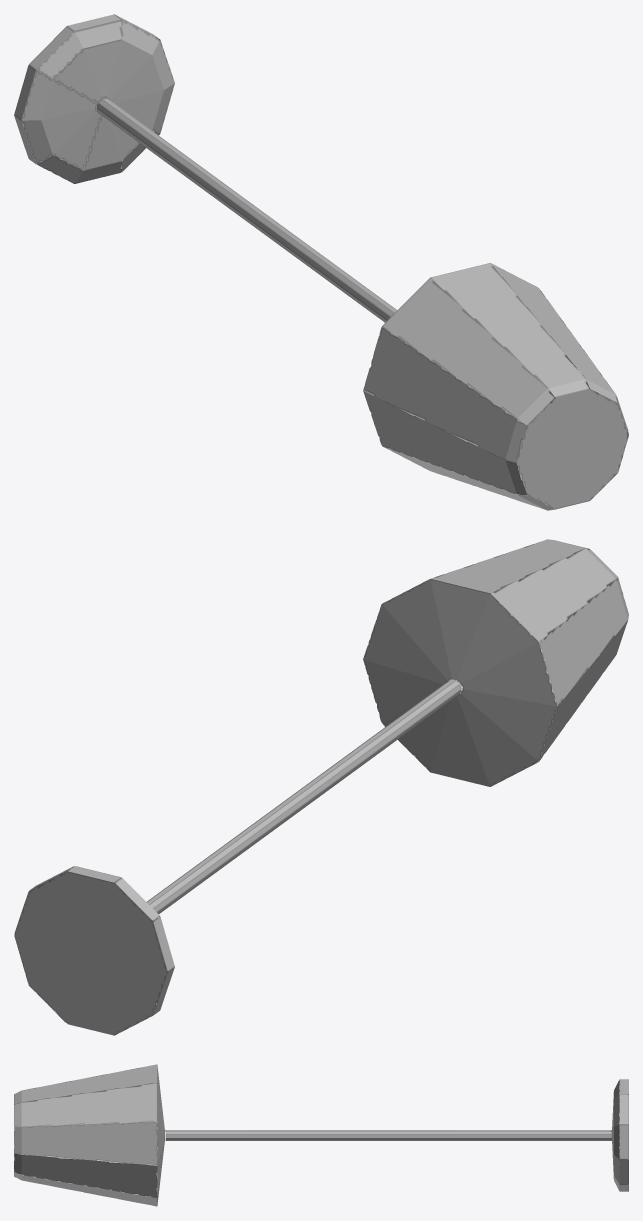
The model's file is pz_lamp_58.obj.
The picture shows the model from 3 angles, top to bottom: view 1: azimuth 30°, elevation 25°; view 2: azimuth 150°, elevation 25°; view 3: azimuth 270°, elevation 25°; orthographic projection. The views are drawn at different scales.
Size of the model in its own units: 0.38 by 0.3614 by 1.63.
Materials: 1 (1 with a texture image).
